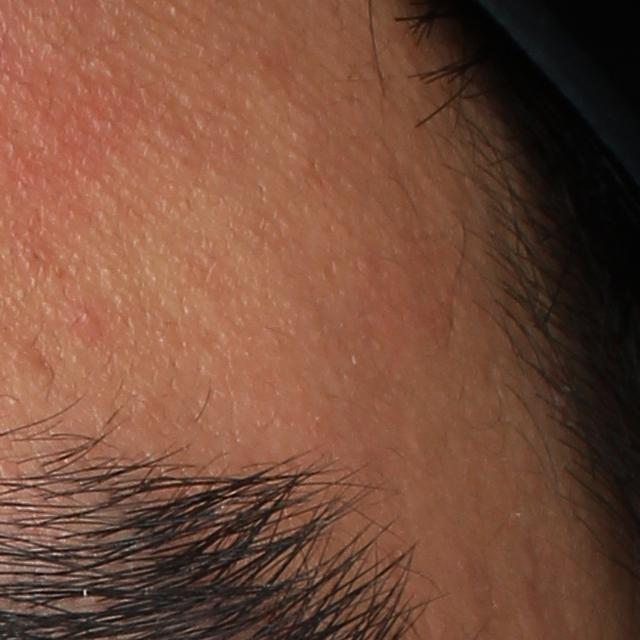papule: (75, 309, 94, 332)
